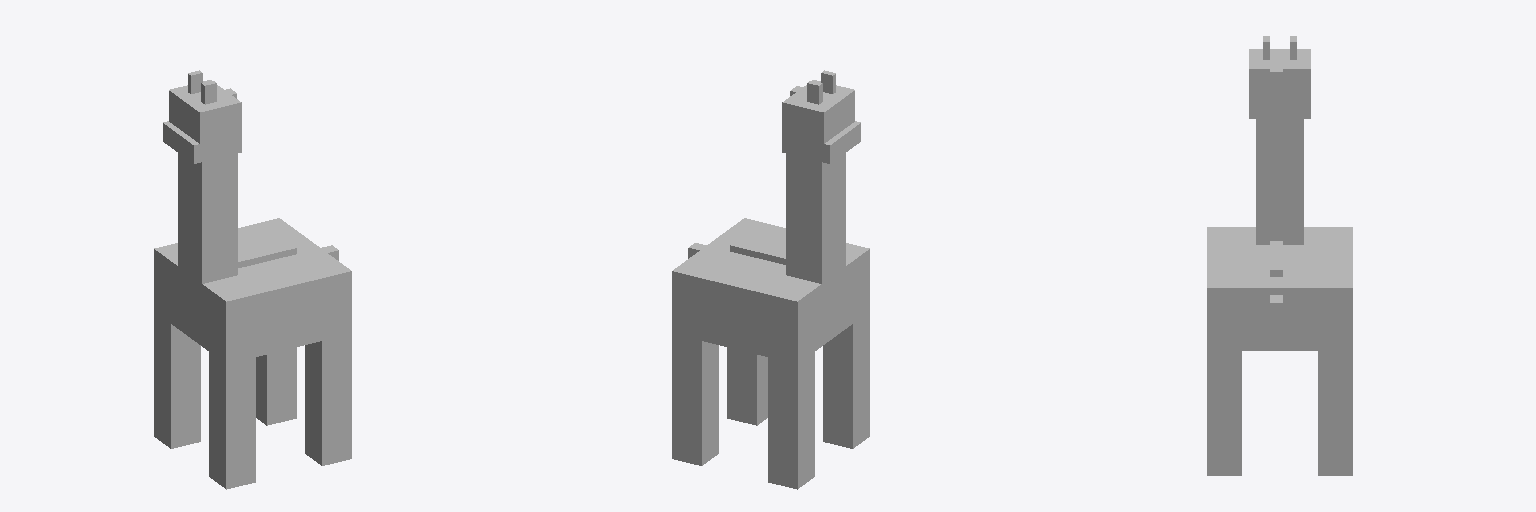
File: jirafa1.obj
The picture shows the model from 3 angles: view 1: azimuth 30°, elevation 25°; view 2: azimuth 150°, elevation 25°; view 3: azimuth 270°, elevation 25°; orthographic projection.
Parts seen in each view (by area): view 1: object 1; view 2: object 1; view 3: object 1.
Part boxes in pixels (left/top/right/bottom): object 1: left=154, top=70, right=351, bottom=489; object 1: left=672, top=70, right=869, bottom=489; object 1: left=1207, top=36, right=1352, bottom=475.
Bounding box in the file's own units: 2.6 × 6.1 × 2.1.